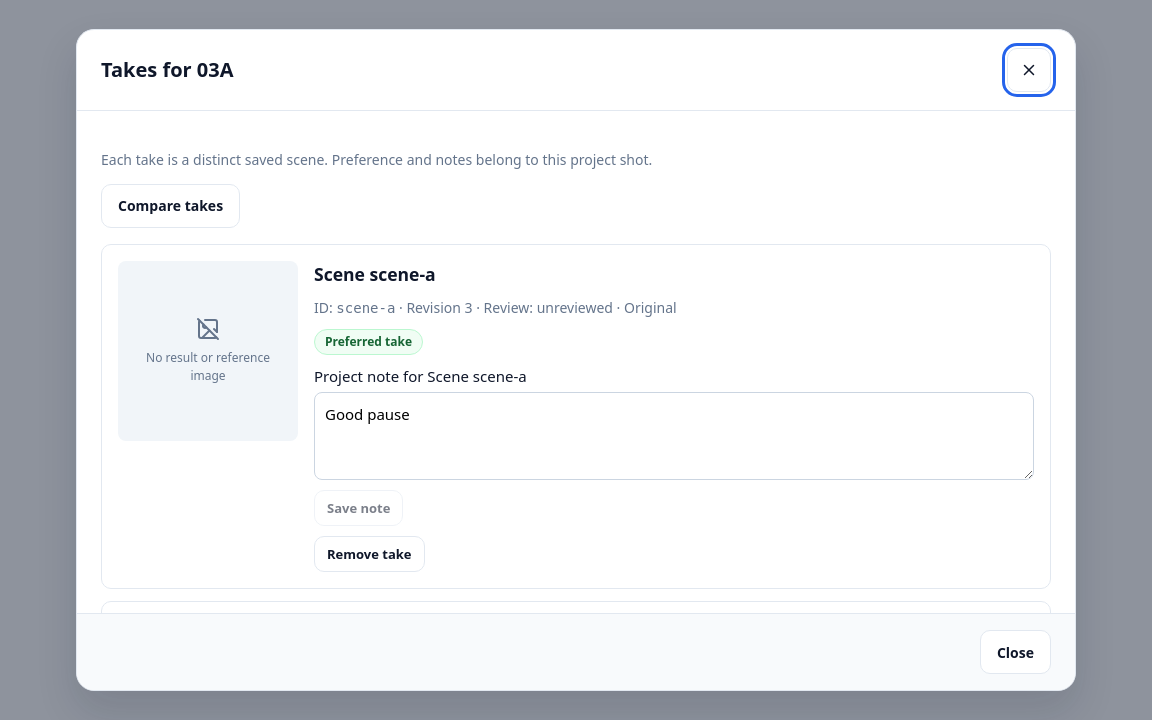
keeps two distinct take IDs when a comparison choice changes
Click the button "Compare takes" at (171, 206), box [101,184,240,228]
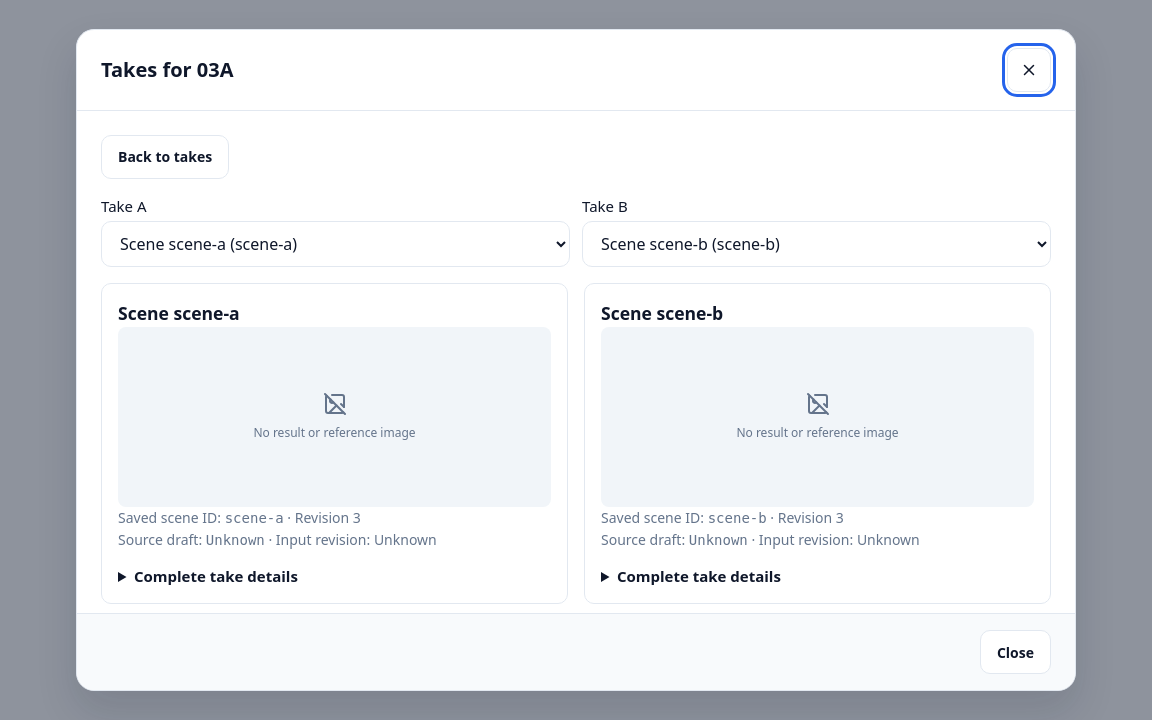
Select "Scene scene-b (scene-b)" in the dropdown labelled "Take A" at (336, 244), box [101,221,570,267]
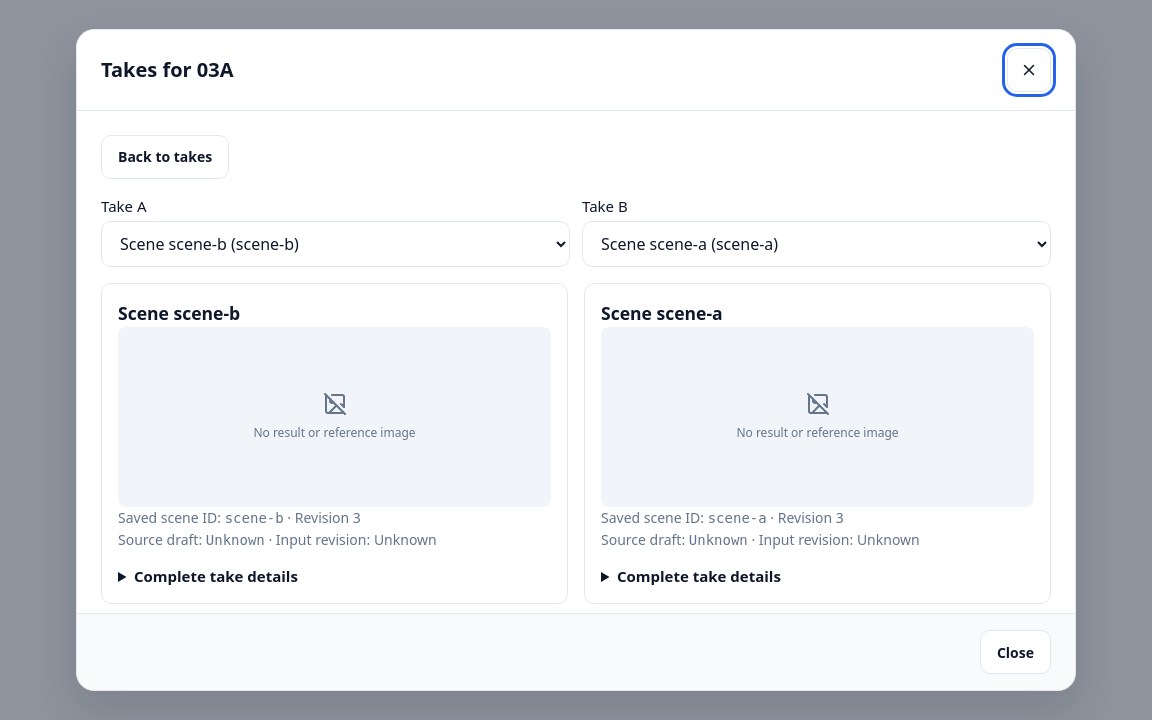
Check: the dropdown labelled "Take B" shows "Scene scene-a (scene-a)", box [582,221,1051,267]
